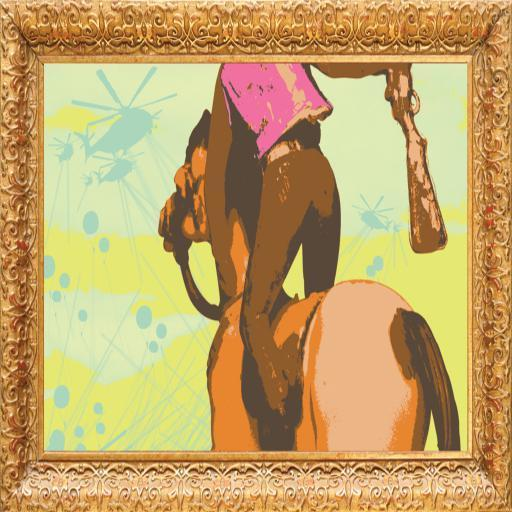horse: (155, 108, 458, 460)
